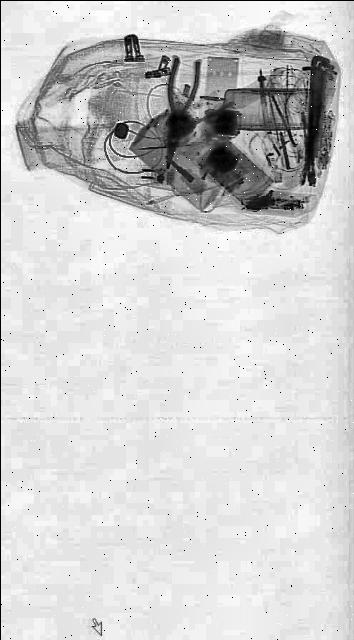Pliers: (155, 49, 203, 178)
